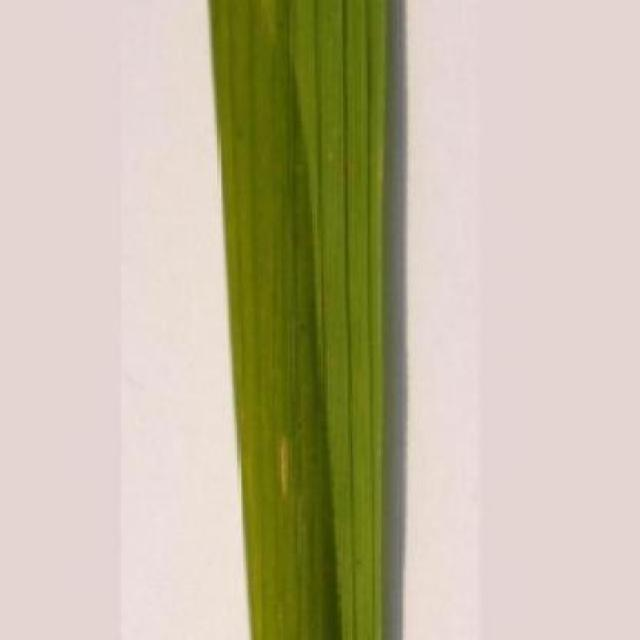Brown_Spot: (202, 0, 393, 640)
